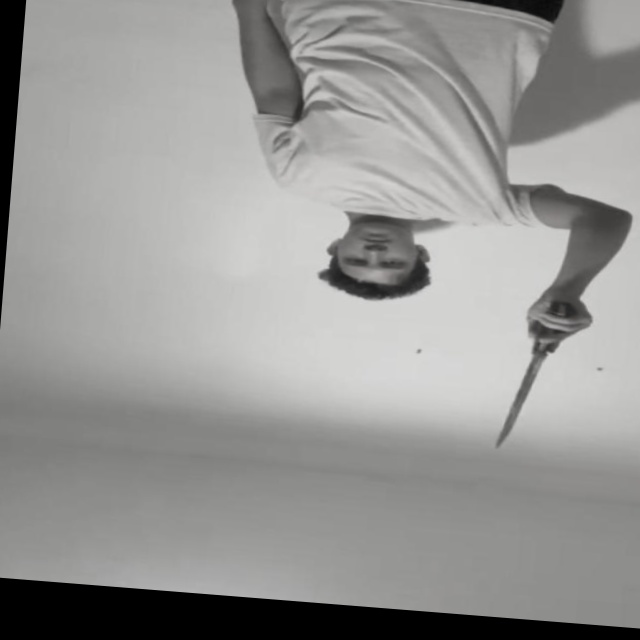Sharp-Object: (495, 354, 543, 453)
